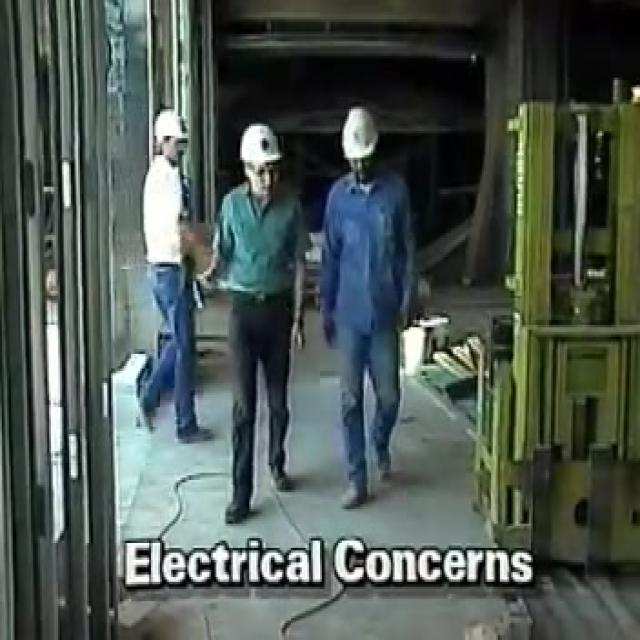Safety-Helmet: (329, 95, 391, 172), (231, 114, 291, 177), (147, 102, 195, 153)
